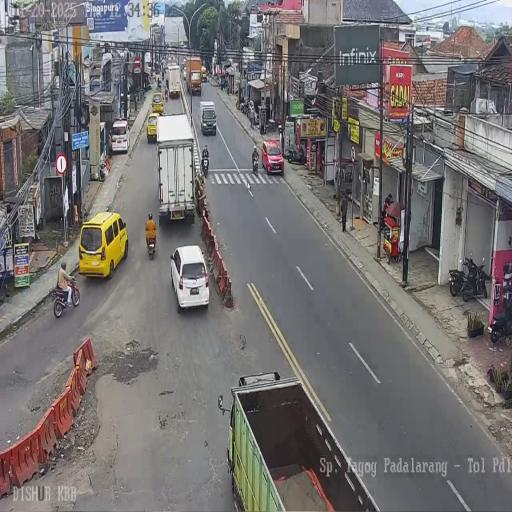car: (78, 210, 128, 278), (170, 244, 210, 311), (261, 139, 283, 175), (110, 118, 130, 155), (200, 100, 217, 134), (146, 113, 160, 143), (152, 91, 164, 113), (200, 66, 207, 82), (182, 64, 186, 80)
motorcycle: (459, 254, 488, 302), (489, 291, 512, 342), (53, 276, 80, 318), (284, 145, 306, 165), (146, 228, 156, 258), (201, 154, 209, 177), (240, 98, 250, 116), (252, 154, 258, 176), (157, 76, 161, 90), (164, 88, 168, 102)
truck: (228, 369, 376, 512), (155, 112, 197, 226), (185, 56, 202, 96), (167, 66, 181, 99), (168, 54, 178, 67)
